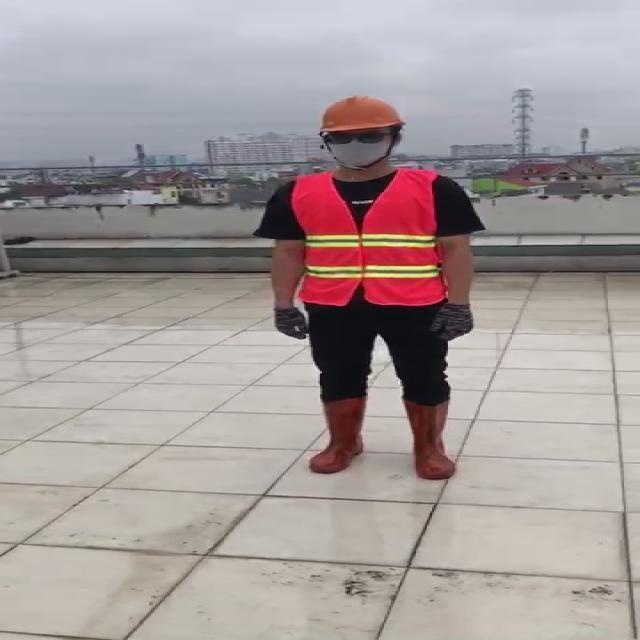Gafas: (321, 130, 393, 144)
Guantes: (435, 302, 474, 342), (273, 303, 310, 341)
